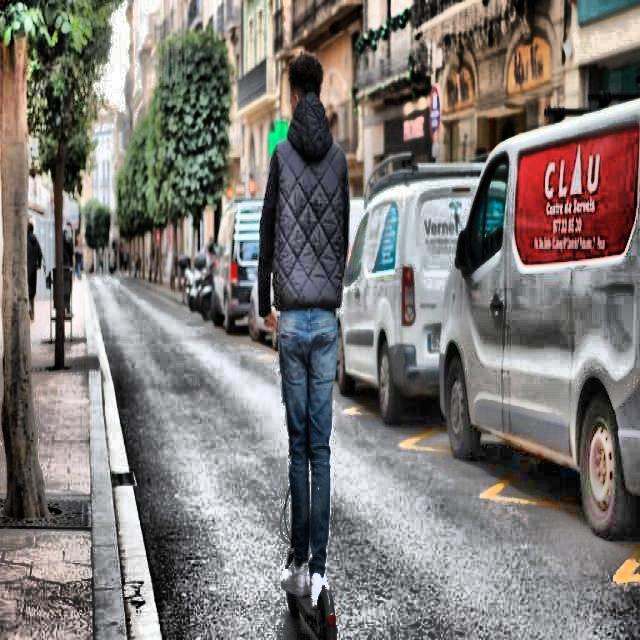bare_head: (277, 53, 337, 103)
human: (269, 48, 351, 603)
kickboard: (279, 541, 360, 637)
